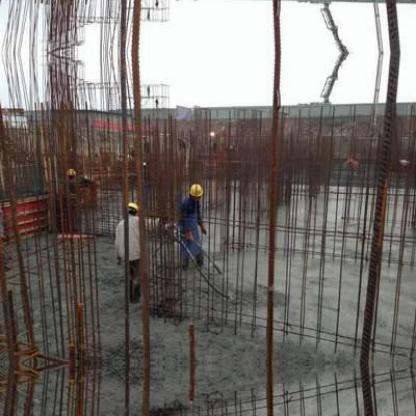Helmet: (187, 180, 205, 200), (122, 197, 140, 213), (62, 164, 74, 180)
